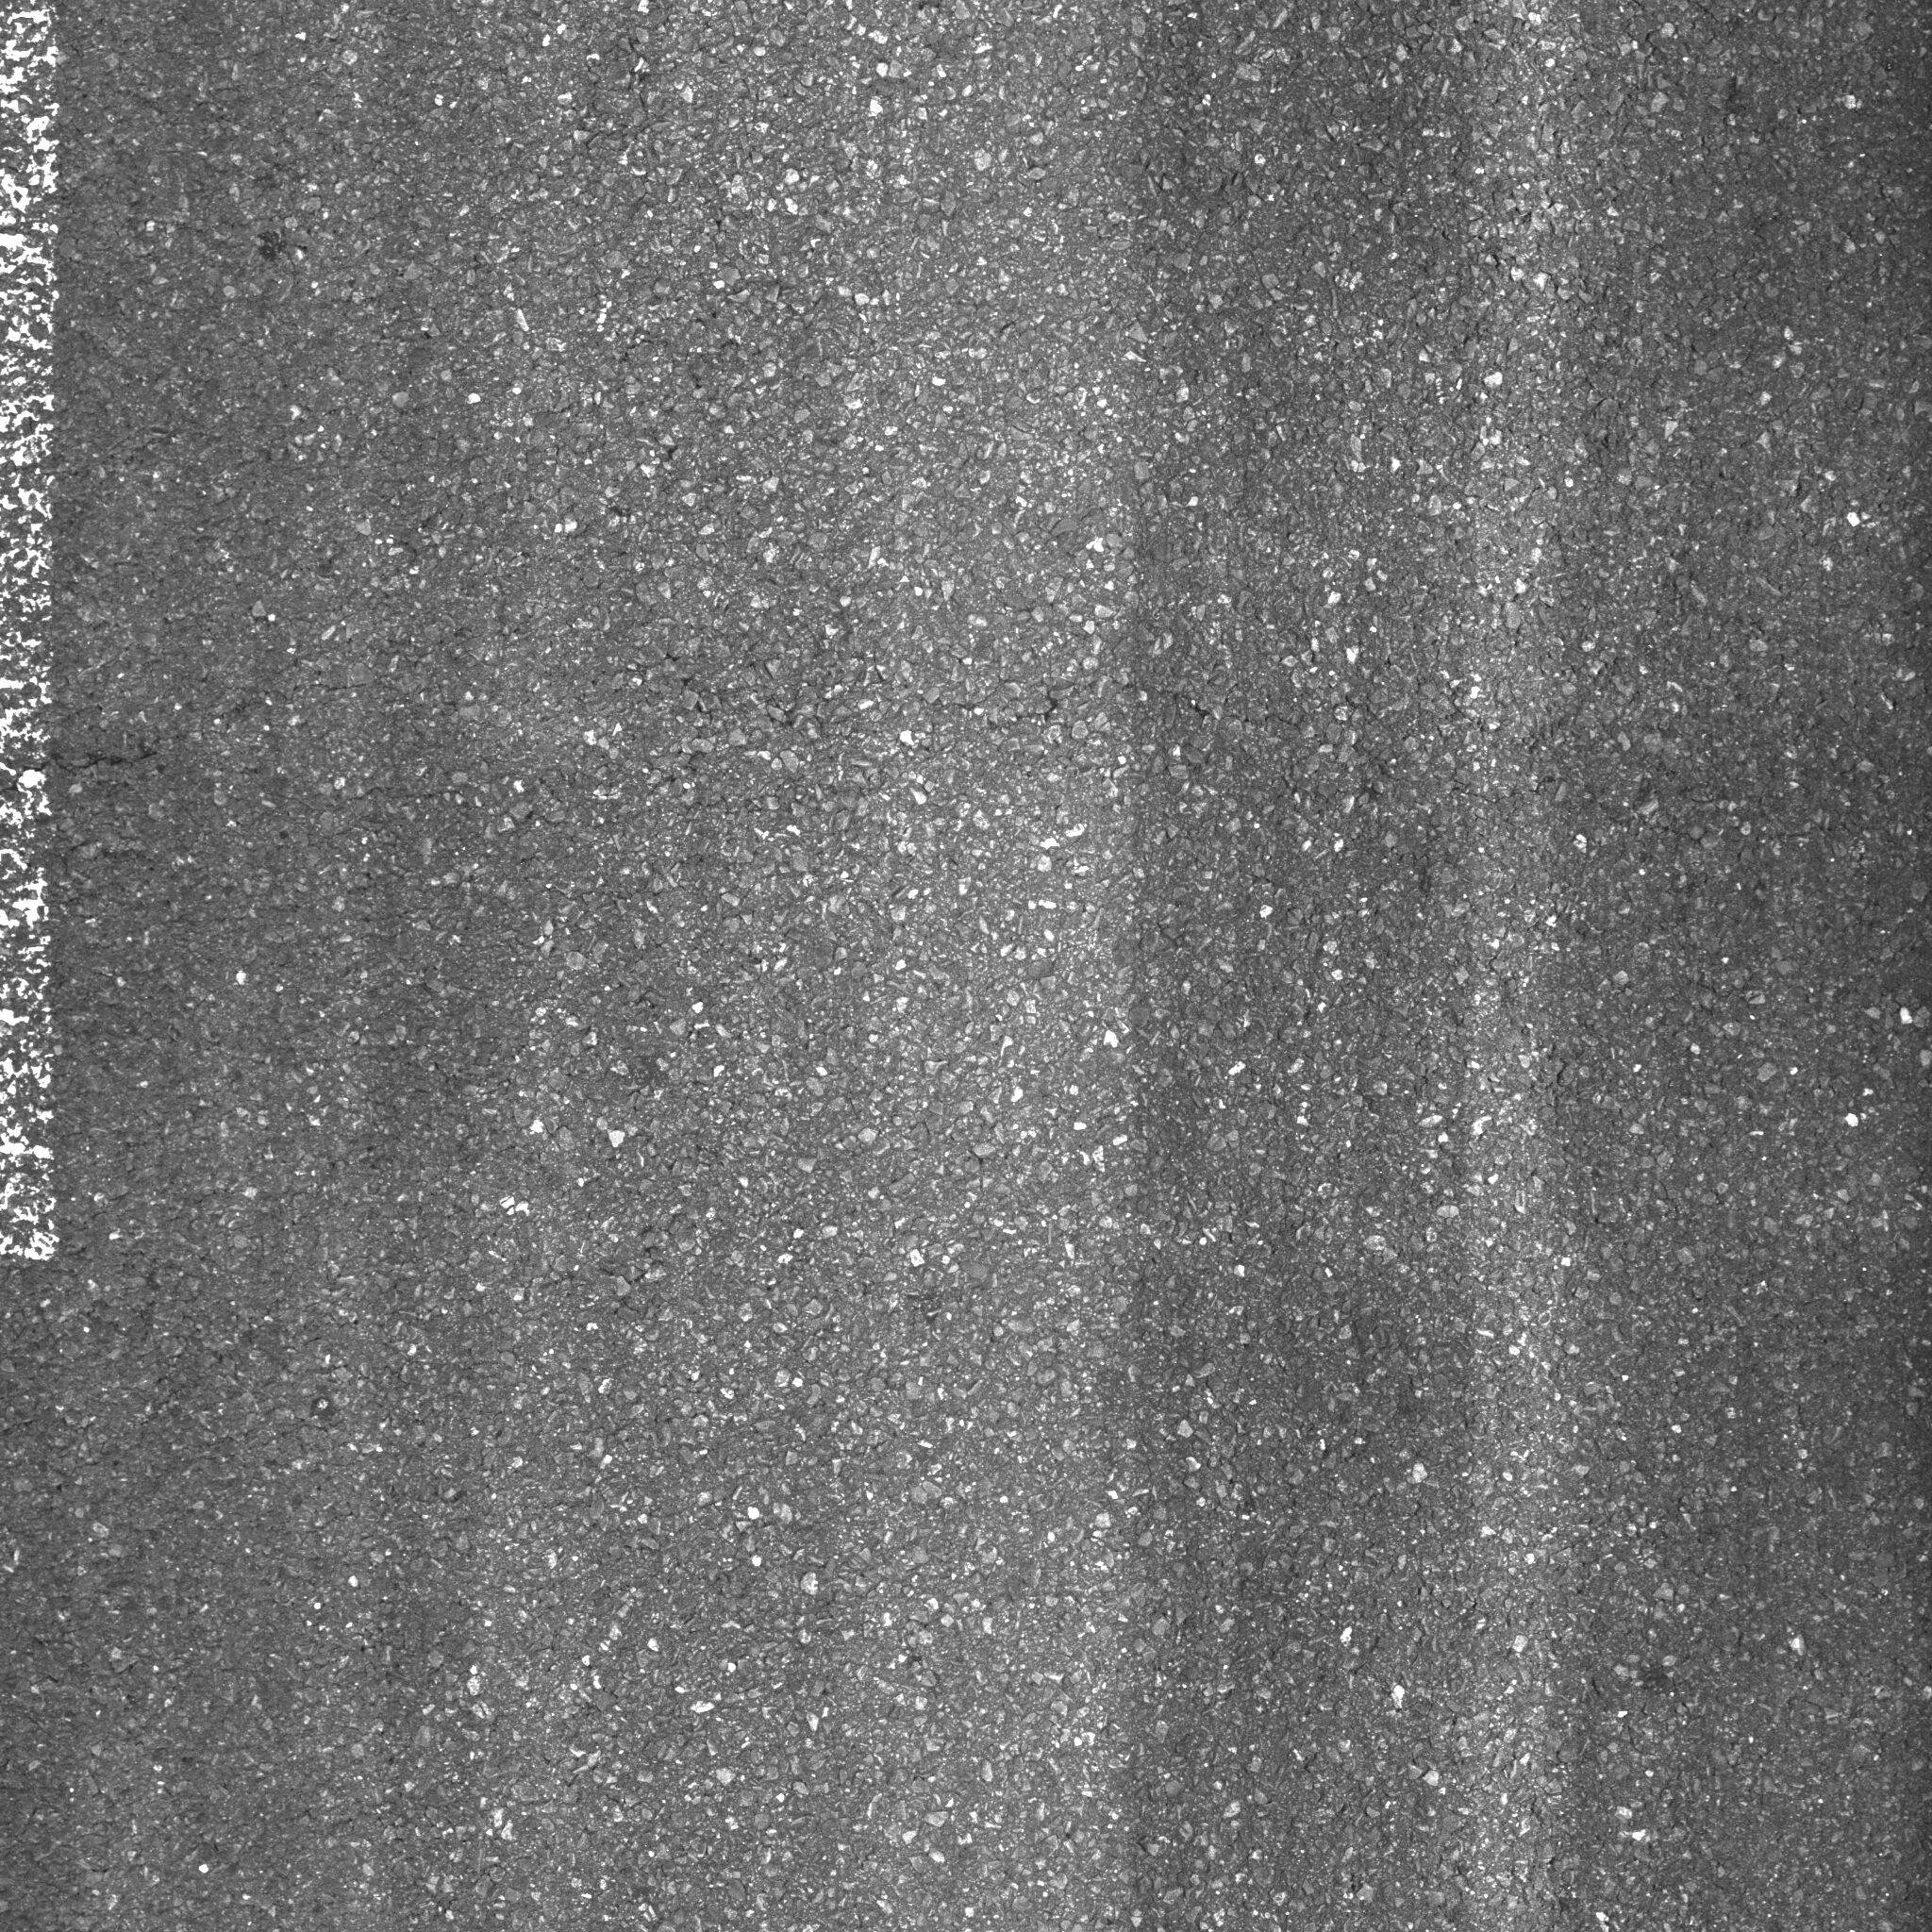transeverse: (50, 683, 310, 812)
